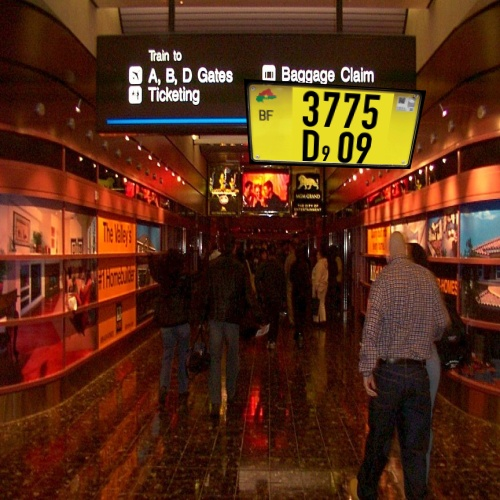plate: (233, 68, 436, 183)
